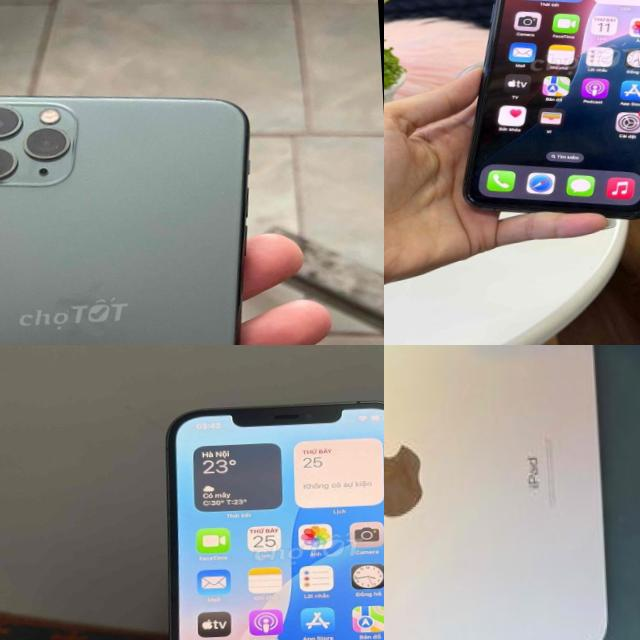gen_11: (0, 72, 275, 345), (465, 0, 640, 218)
gen_12_13: (148, 391, 384, 640)
